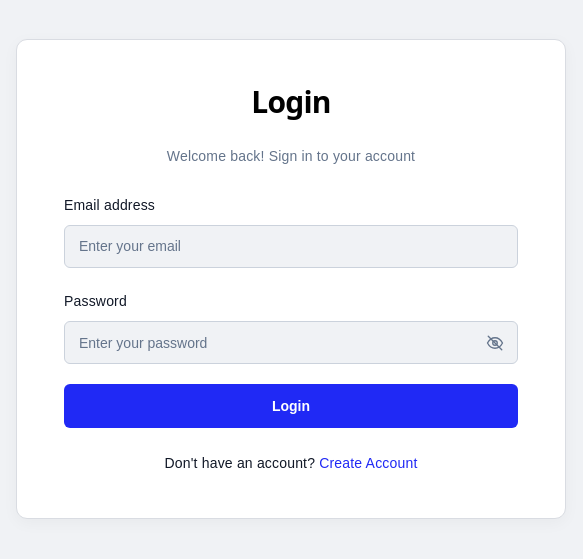
Test: Login component › shows validation errors when email and password are empty
Click the button "Login": (291, 406) [64, 384, 518, 428]
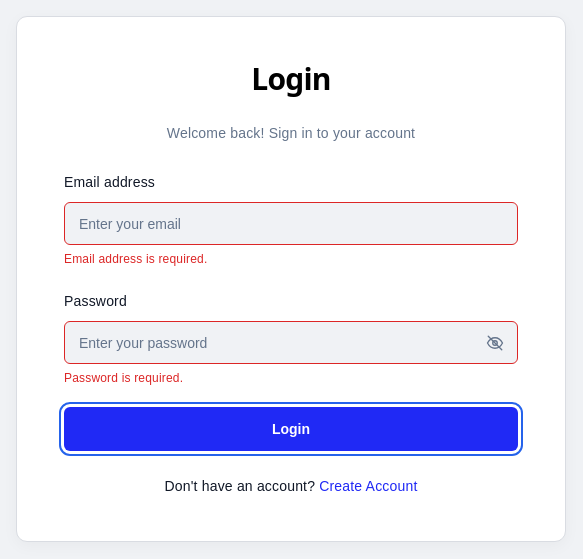
Now the text "Email address is required." is shown, box [64, 252, 207, 266]
Now the text "Password is required." is shown, box [64, 371, 183, 385]
